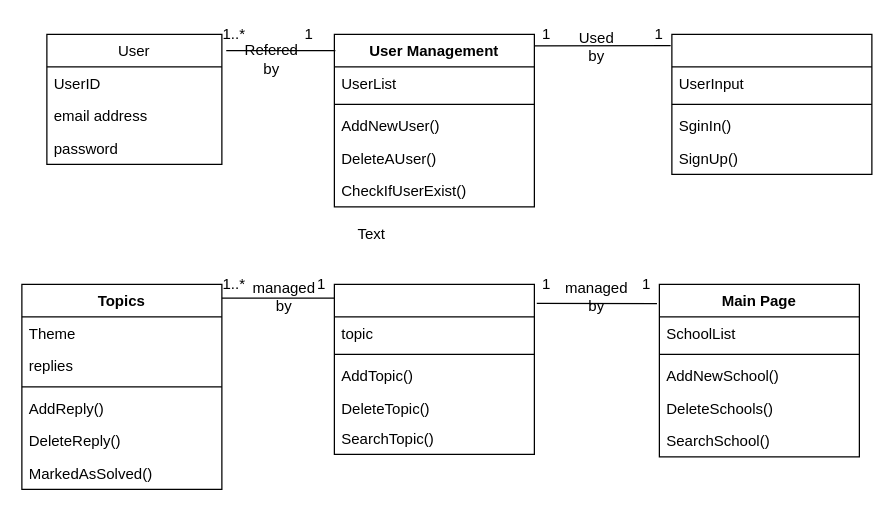
This 894x514 diagram has some shape labels left out. The shapes that lost their labels are listed below. From the top down, each one's box as (x1, y1, x2, y2) in pixels, then its label:
(671, 33, 872, 174): SignIn-SignUp System
(333, 283, 534, 454): School Forum
